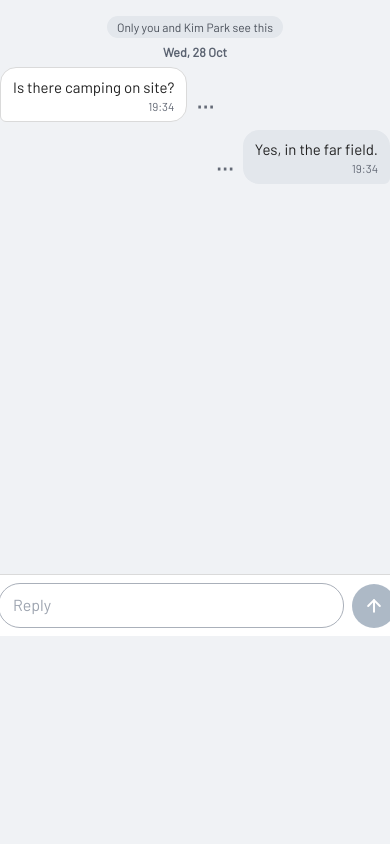
Test: an organiser › deletes a message from its menu, after asking
This screenshot has width=390, height=844.
Expected: the text "Is there camping on site?" is shown, [13,78,174,96]
Click the button "⋯" next to "Is there camping on site?".
click(205, 106)  # box [189,90,221,122]
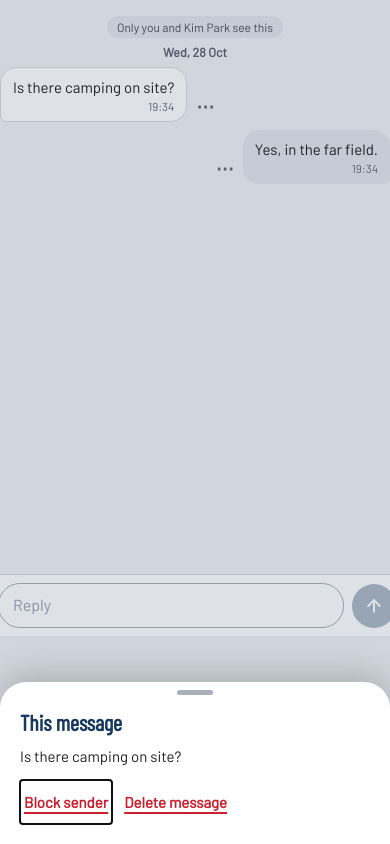
Click the button "Delete message".
click(176, 802)  # box [120,780,231,824]
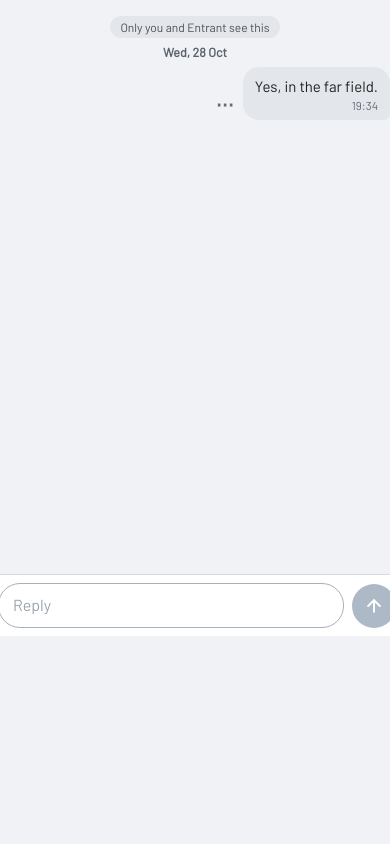
Result: the text "Is there camping on site?" is gone
